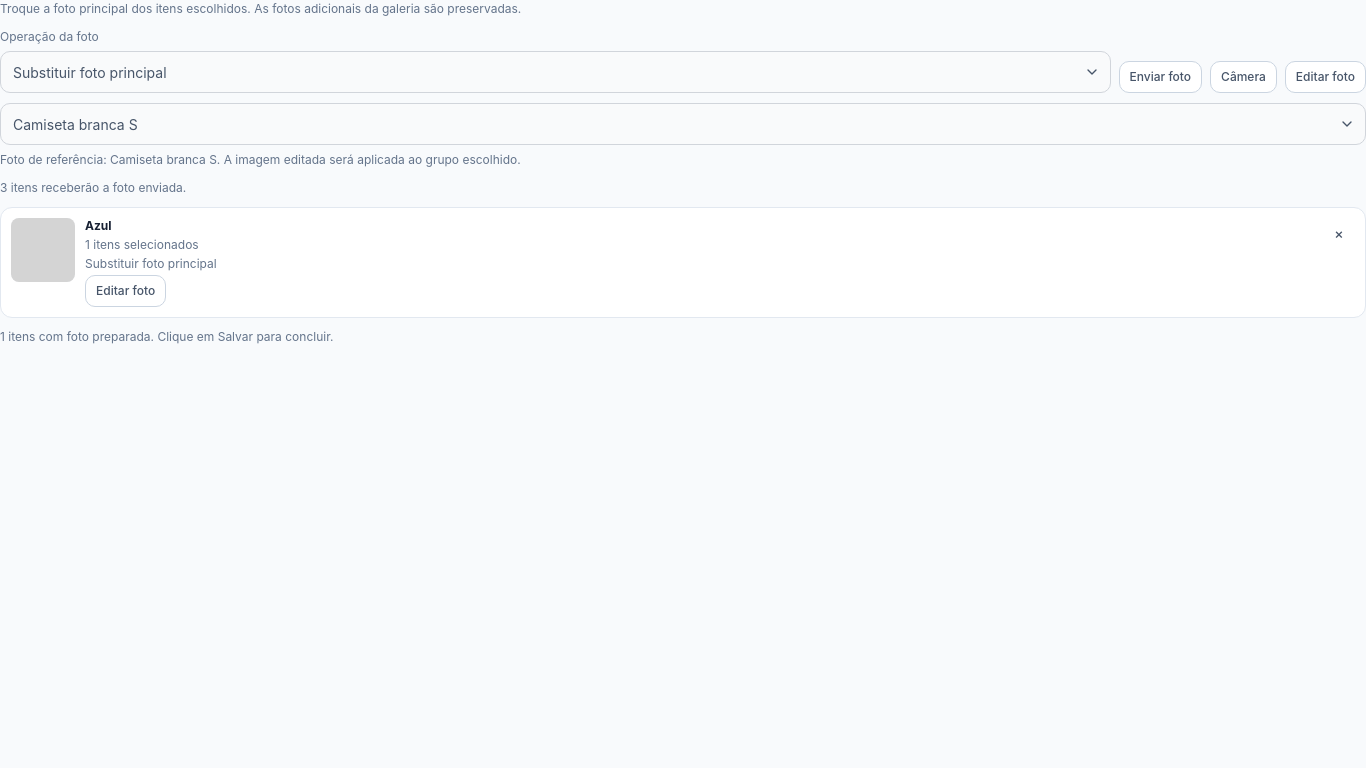
Bulk photo editing with the shared photo assistant › preserves the original and existing drafts when background removal fails
Click the 1st button "Editar foto" at (1325, 77), box [1285, 61, 1365, 93]
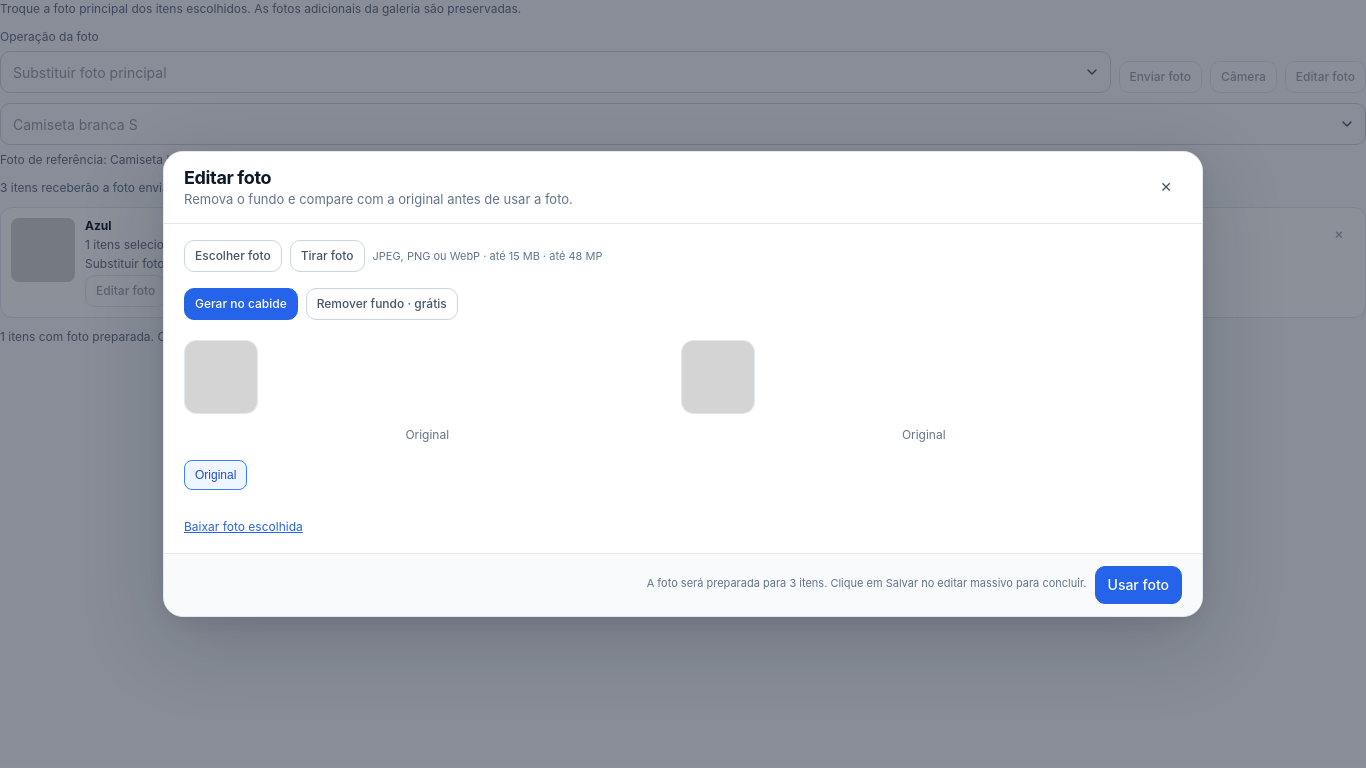
Click the button "Remover fundo · grátis" at (382, 304), box [306, 288, 458, 320]
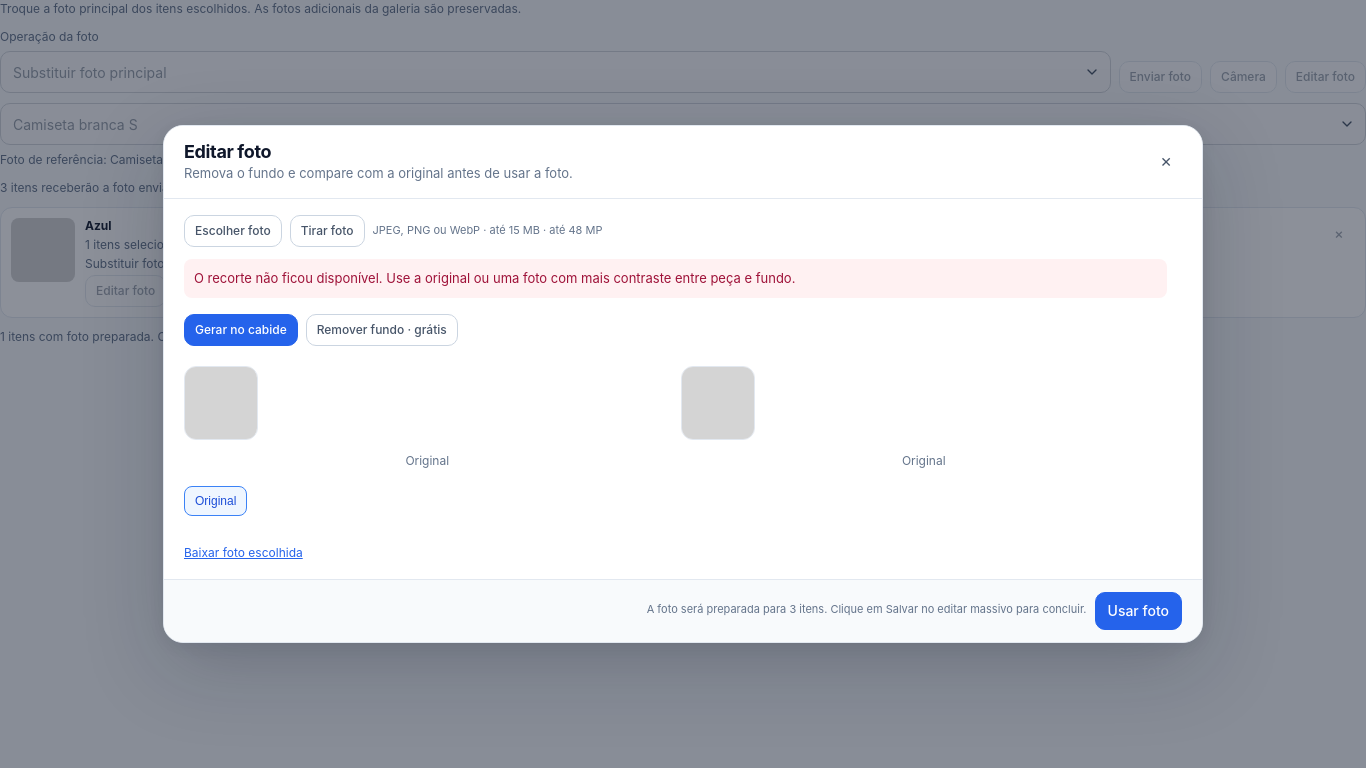
Result: the message shows "recorte" at [194, 270, 795, 286]
